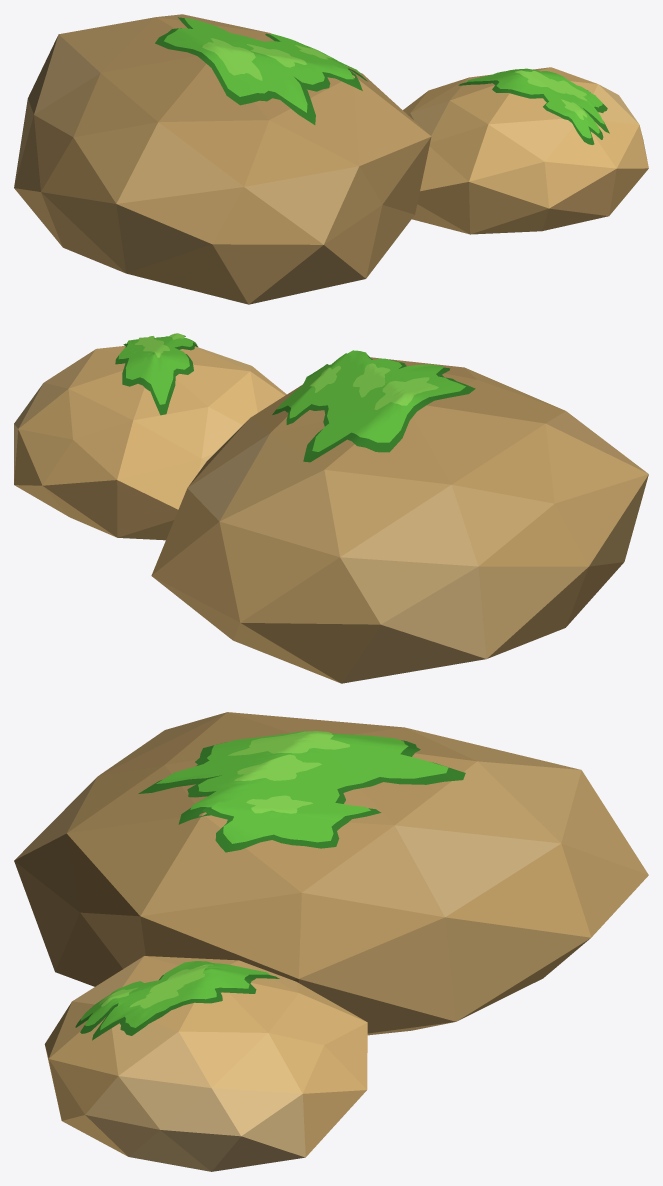
File: rock_6_streak.glb
3 renders of one model, top to bottom at view 1: azimuth 30°, elevation 25°; view 2: azimuth 150°, elevation 25°; view 3: azimuth 270°, elevation 25°, orthographic. The views are drawn at different scales.
Parts seen in each view (by area): view 1: rock_6_streak; view 2: rock_6_streak; view 3: rock_6_streak.
Boxes of the visible parts, x1,y1,x2,y2 form: rock_6_streak: (14, 14, 648, 304); rock_6_streak: (14, 333, 648, 683); rock_6_streak: (14, 712, 648, 1171).
Bounding box in the file's own units: 2.68 × 0.8948 × 2.16.
